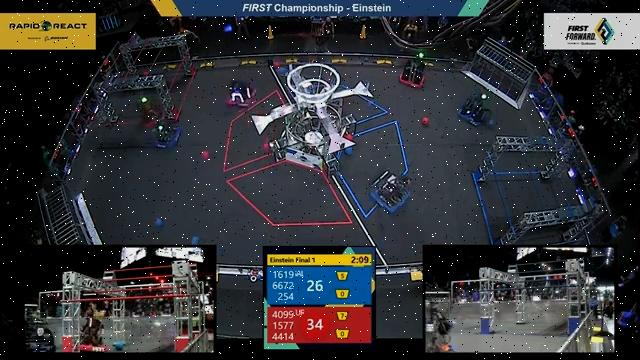Robot: (361, 167, 416, 216), (452, 91, 493, 131), (219, 73, 259, 113), (128, 95, 171, 131), (393, 55, 429, 93), (147, 121, 191, 152)
